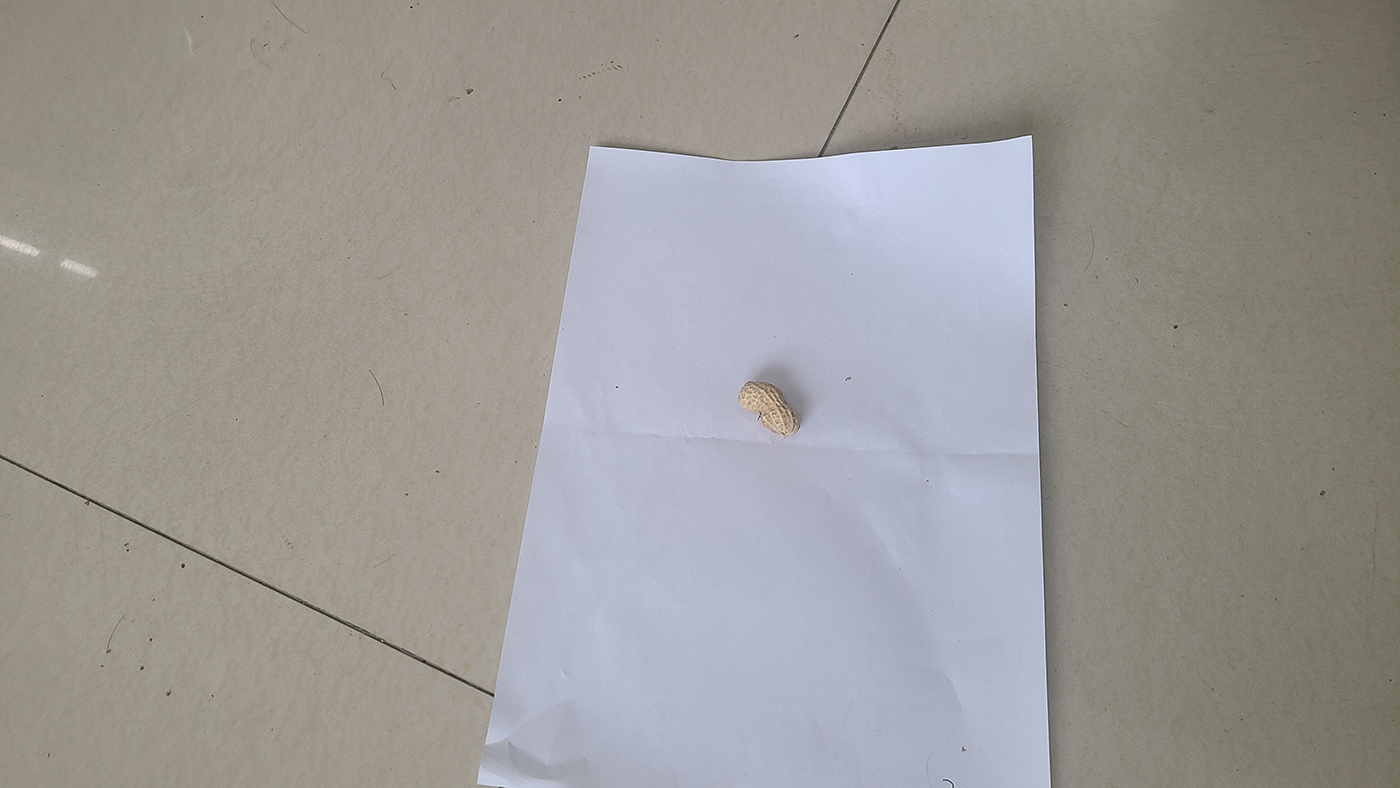h: (737, 380, 801, 435)
